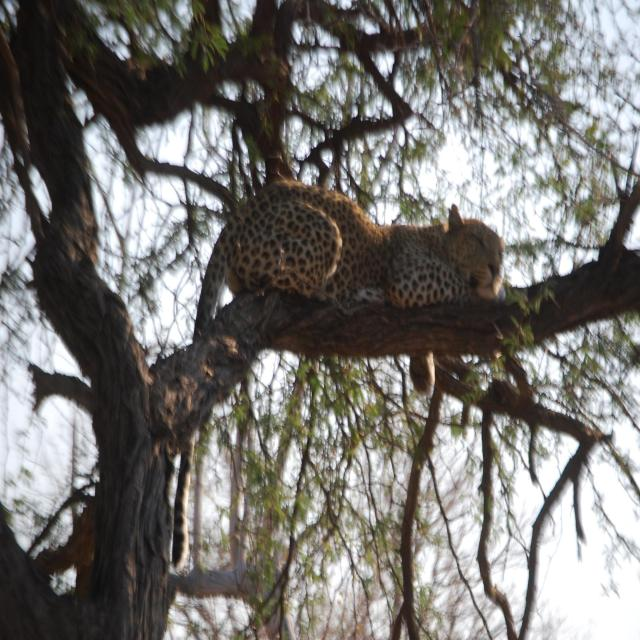Leopard: (210, 150, 508, 507)
